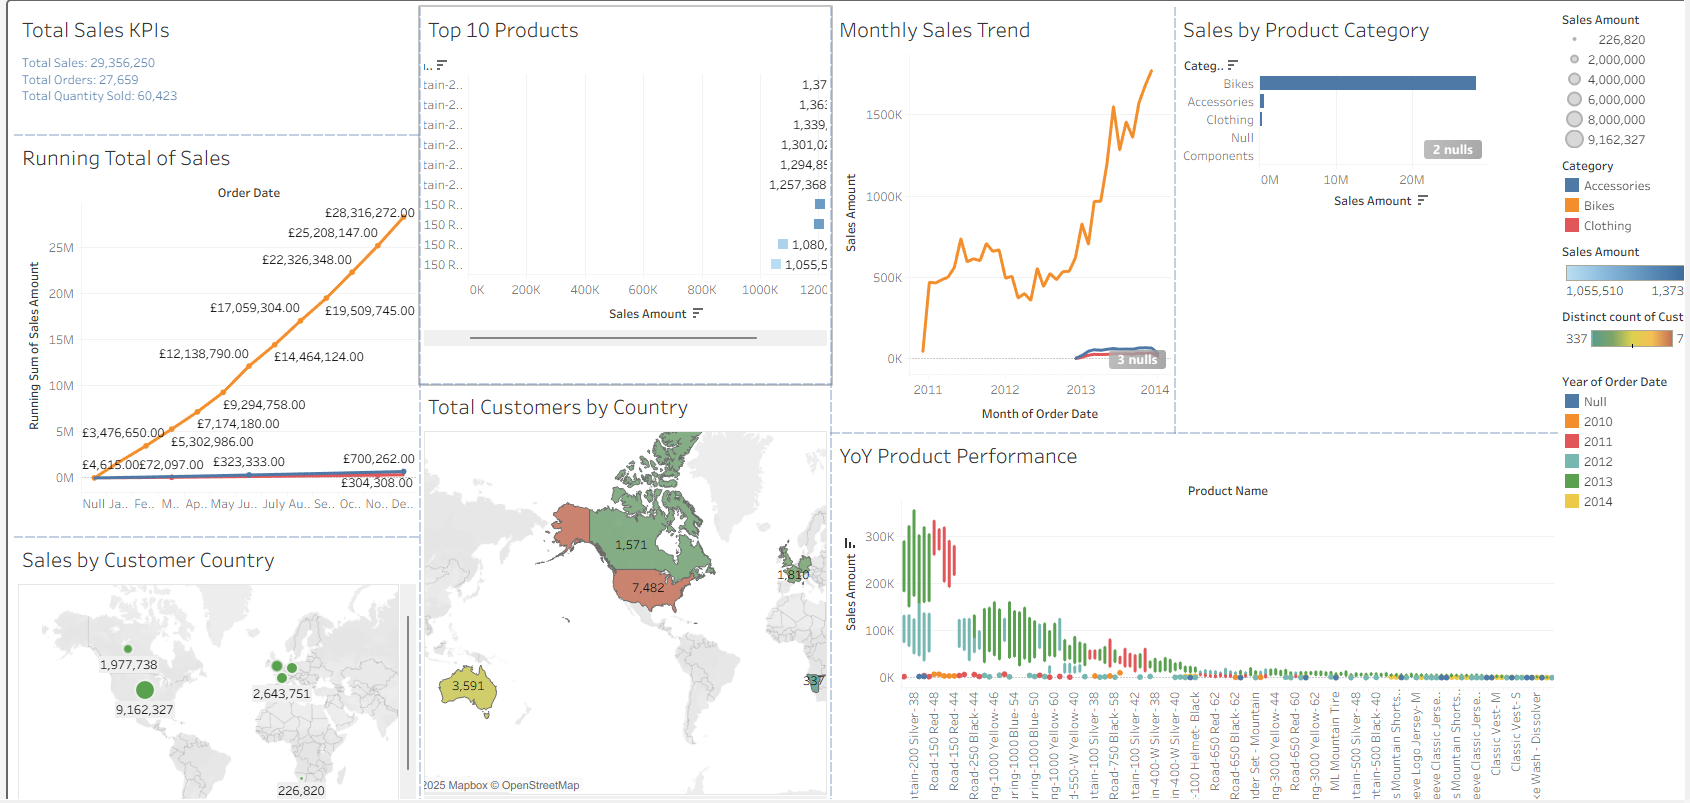

The dashboard page shown, as its layout file describes it:
{"tool":"tableau","page":{"name":"Sales Analytics","canvas":[1000,1000],"units":"permille","ordinal":0},"visuals":[{"type":"text","box":[4.7,9.3,990.7,37.2]},{"type":"worksheet","title":"Total Sales KPIs","mark":"Automatic","box":[4.7,46.5,235.8,143.3]},{"type":"worksheet","title":"Top 10 Products","mark":"Square","rows":["product_name"],"cols":["sales_amount"],"box":[240.4,46.5,239.2,423.3]},{"type":"worksheet","title":"Monthly Sales Trend","mark":"Automatic","rows":["sales_amount"],"cols":["order_date"],"box":[479.6,46.5,200.1,477.1]},{"type":"worksheet","title":"Sales by Product Category","mark":"Automatic","rows":["category"],"cols":["sales_amount"],"box":[679.7,46.5,222.6,477.1]},{"type":"legend","title":"Sales by Customer Country","param":"[federated.0gbziyv0mwfj3x12mu3nc0ysc7k1].[sum:sales_amount:qk]","box":[902.3,46.5,93,169.8]},{"type":"worksheet","title":"Running Total of Sales","mark":"Automatic","rows":["sales_amount"],"cols":["order_date"],"box":[4.7,189.8,235.8,449.9]},{"type":"legend","title":"Monthly Sales Trend","param":"[federated.0gbziyv0mwfj3x12mu3nc0ysc7k1].[none:category:nk]","box":[902.3,216.3,93,100]},{"type":"legend","title":"Top 10 Products","param":"[federated.0gbziyv0mwfj3x12mu3nc0ysc7k1].[sum:sales_amount:qk]","box":[902.3,316.3,93,75.6]},{"type":"legend","title":"Total Customers by Country","param":"[federated.0gbziyv0mwfj3x12mu3nc0ysc7k1].[ctd:customer_key:qk]","box":[902.3,391.9,93,75.6]},{"type":"legend","title":"YoY Product Performance","param":"[federated.0gbziyv0mwfj3x12mu3nc0ysc7k1].[yr:order_date:ok]","box":[902.3,467.4,93,169.8]},{"type":"worksheet","title":"Total Customers by Country","mark":"Automatic","box":[240.4,469.8,239.2,520.9]},{"type":"worksheet","title":"YoY Product Performance","mark":"Line","rows":["sales_amount"],"cols":["product_name"],"box":[479.6,523.6,422.7,467.1]},{"type":"worksheet","title":"Sales by Customer Country","mark":"Automatic","box":[4.7,639.7,235.8,351]}]}

Visuals, with their boxes on the dashboard's canvas, which has no fixed pixel size, in thousandths of its width and height (x1, y1, x2, y2). These are canvas units, not pixel positions in the 1690x803 screenshot, which may show the page scaled, cropped or inside an application window:
text: select_region(5, 9, 995, 46)
"Total Sales KPIs" worksheet: select_region(5, 46, 240, 190)
"Top 10 Products" worksheet (Square marks): select_region(240, 46, 480, 470)
"Monthly Sales Trend" worksheet: select_region(480, 46, 680, 524)
"Sales by Product Category" worksheet: select_region(680, 46, 902, 524)
"Sales by Customer Country" legend: select_region(902, 46, 995, 216)
"Running Total of Sales" worksheet: select_region(5, 190, 240, 640)
"Monthly Sales Trend" legend: select_region(902, 216, 995, 316)
"Top 10 Products" legend: select_region(902, 316, 995, 392)
"Total Customers by Country" legend: select_region(902, 392, 995, 468)
"YoY Product Performance" legend: select_region(902, 467, 995, 637)
"Total Customers by Country" worksheet: select_region(240, 470, 480, 991)
"YoY Product Performance" worksheet (Line marks): select_region(480, 524, 902, 991)
"Sales by Customer Country" worksheet: select_region(5, 640, 240, 991)
